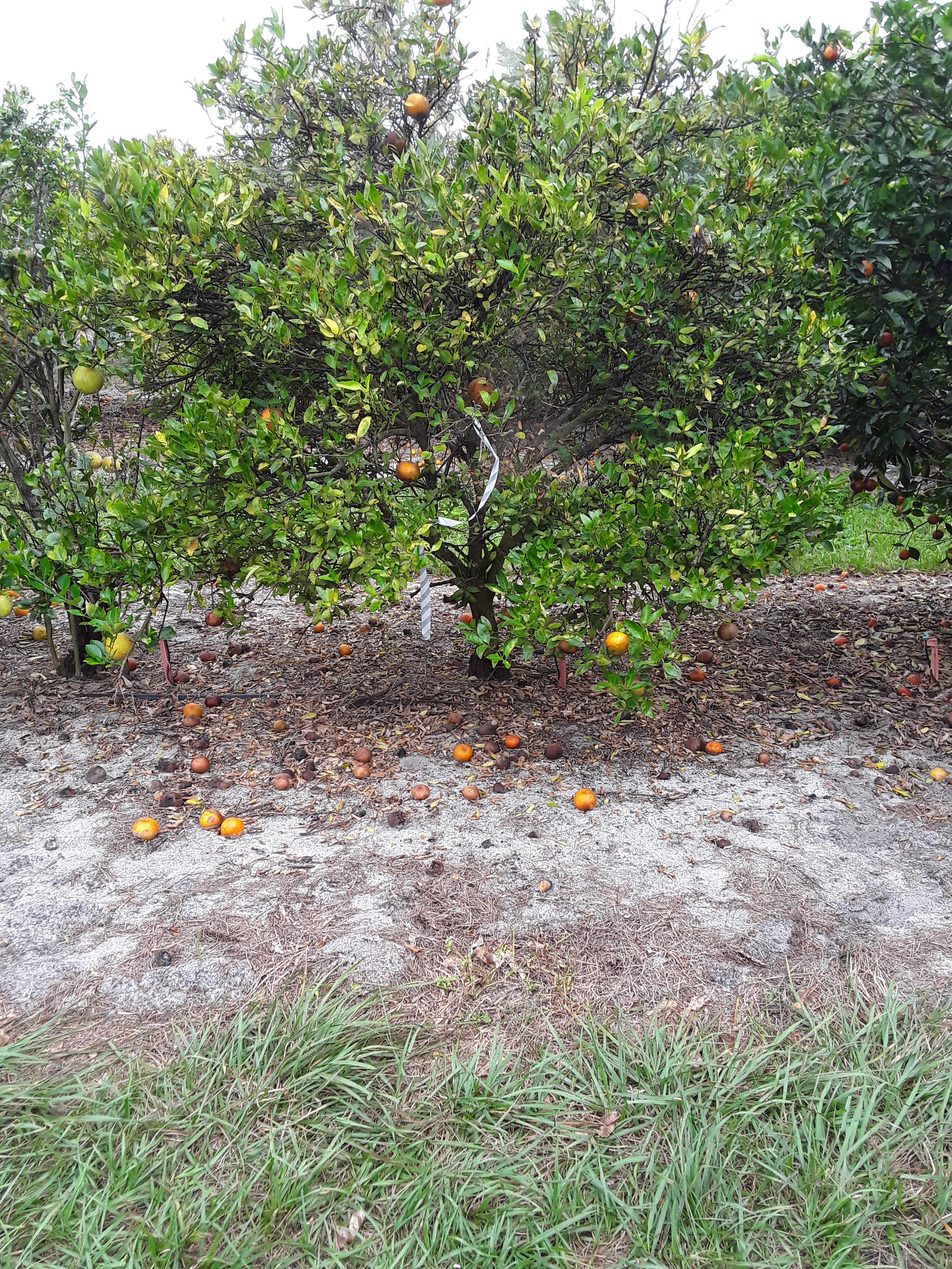fruit_on_ground: (69, 361, 105, 397), (101, 628, 134, 662), (466, 374, 498, 407), (281, 249, 314, 278), (257, 404, 287, 433), (402, 89, 432, 118), (380, 128, 409, 155), (603, 628, 632, 655), (394, 456, 422, 482), (216, 552, 243, 578), (675, 286, 700, 313), (626, 189, 653, 214), (622, 301, 650, 325), (177, 533, 203, 558), (417, 0, 462, 14), (12, 432, 37, 456), (556, 633, 580, 655), (716, 621, 740, 643), (856, 256, 878, 279), (82, 449, 103, 473), (202, 608, 225, 629), (627, 676, 650, 697), (821, 40, 842, 63), (105, 453, 124, 474), (877, 329, 897, 348), (0, 592, 15, 617), (874, 372, 892, 389), (849, 477, 867, 494), (862, 476, 879, 492), (925, 511, 941, 525), (898, 547, 912, 561), (931, 527, 945, 540), (839, 441, 851, 453)
fruit_on_tree: (130, 816, 159, 843), (572, 786, 598, 812), (220, 815, 245, 839), (198, 808, 224, 831), (189, 752, 212, 774), (85, 762, 108, 783), (452, 741, 475, 762), (157, 789, 182, 808), (182, 706, 205, 726), (475, 719, 499, 738), (272, 770, 294, 790), (543, 741, 565, 760), (928, 764, 950, 782), (410, 782, 430, 801), (182, 700, 203, 718), (385, 811, 407, 828), (693, 648, 715, 665), (31, 622, 50, 641), (483, 739, 503, 757), (683, 734, 703, 752), (460, 783, 480, 801), (687, 664, 707, 682), (351, 761, 371, 779), (352, 745, 372, 763), (4, 582, 24, 600), (158, 757, 179, 774), (503, 732, 522, 750), (444, 708, 463, 725), (492, 755, 511, 771), (225, 640, 244, 656), (198, 647, 217, 663), (705, 739, 724, 755), (292, 745, 310, 761), (173, 668, 191, 684), (13, 601, 31, 617), (271, 717, 289, 733), (122, 655, 138, 672), (205, 692, 222, 708), (490, 779, 508, 794), (905, 671, 923, 686), (756, 750, 772, 766), (336, 641, 352, 657), (832, 633, 850, 647), (457, 609, 473, 624), (537, 877, 551, 893), (300, 768, 316, 782), (215, 778, 232, 791), (896, 685, 913, 698), (392, 746, 407, 760), (304, 729, 320, 742), (824, 675, 840, 687), (279, 768, 295, 780), (866, 614, 879, 628), (359, 621, 373, 633), (807, 664, 821, 675), (812, 581, 826, 592), (341, 601, 356, 611), (938, 617, 950, 629), (304, 760, 316, 772), (883, 638, 896, 649), (313, 621, 325, 632), (838, 582, 849, 592), (839, 568, 849, 577), (783, 567, 792, 576), (805, 580, 815, 588), (826, 582, 835, 589)
